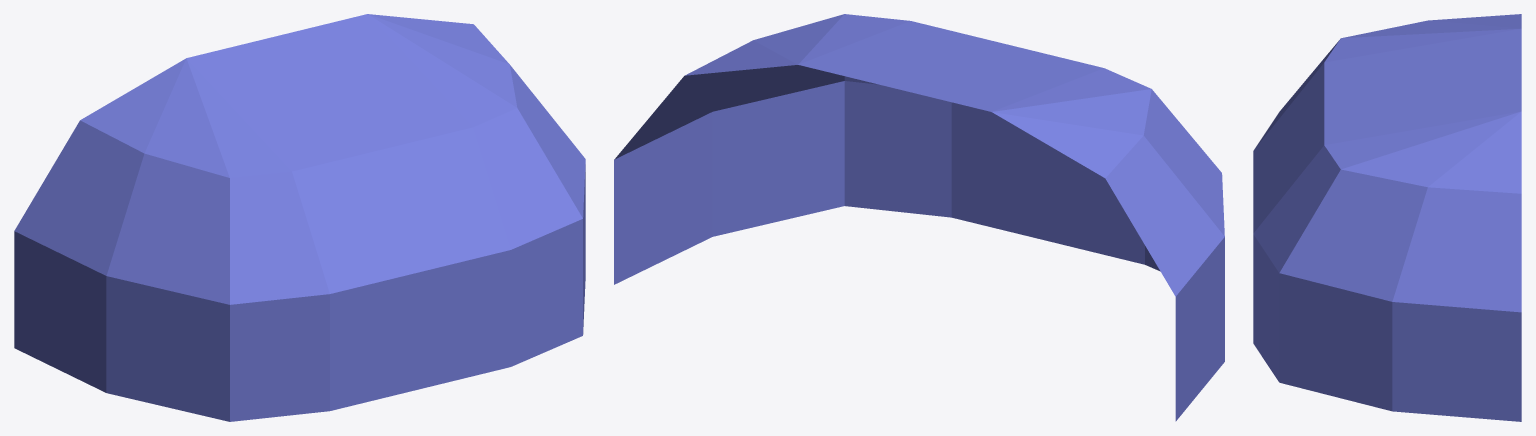
File: WindowAwning_Variety2.fbx
3 renders of one model, left to right at view 1: azimuth 30°, elevation 25°; view 2: azimuth 150°, elevation 25°; view 3: azimuth 270°, elevation 25°, orthographic. The views are drawn at different scales.
Parts seen in each view (by area): view 1: Sphere; view 2: Sphere; view 3: Sphere.
Part boxes in pixels (bbox=[...]): Sphere: bbox=[14, 14, 585, 421]; Sphere: bbox=[614, 14, 1224, 421]; Sphere: bbox=[1253, 14, 1521, 421].
Bounding box in the file's own units: 1.66 × 0.7494 × 0.7861.
